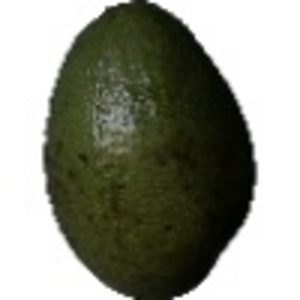abacate: (36, 1, 255, 297)
